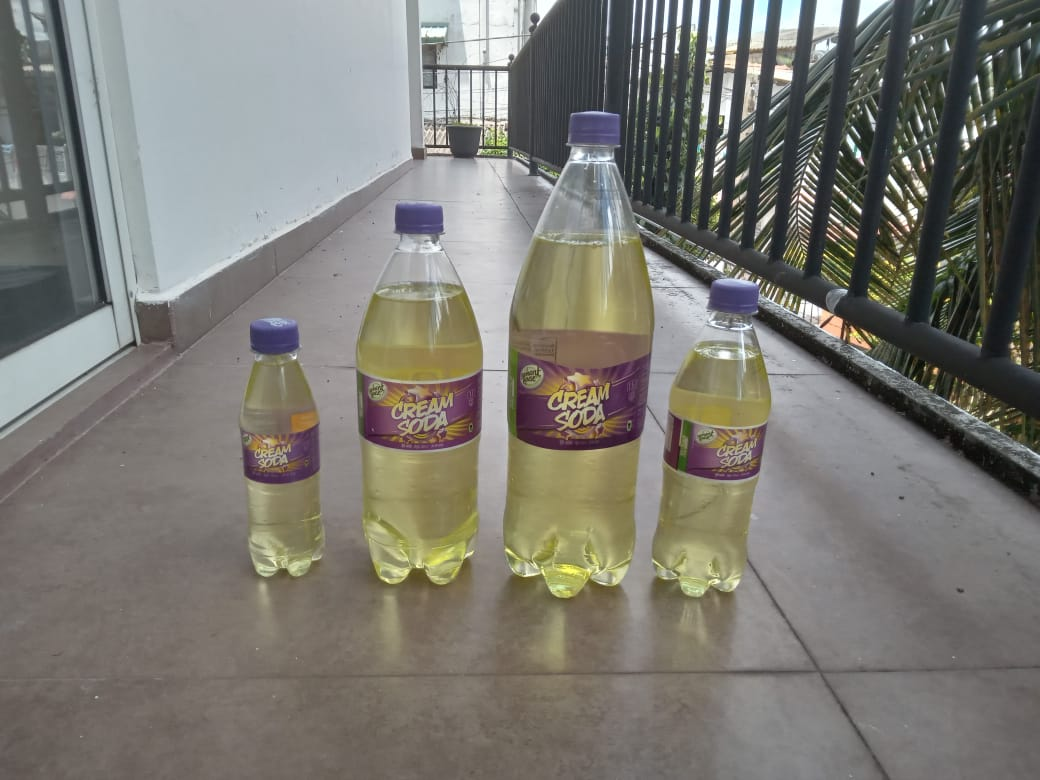L: (502, 109, 654, 602)
M: (353, 205, 481, 589)
S: (657, 280, 773, 602)
Xs: (239, 319, 326, 577)
